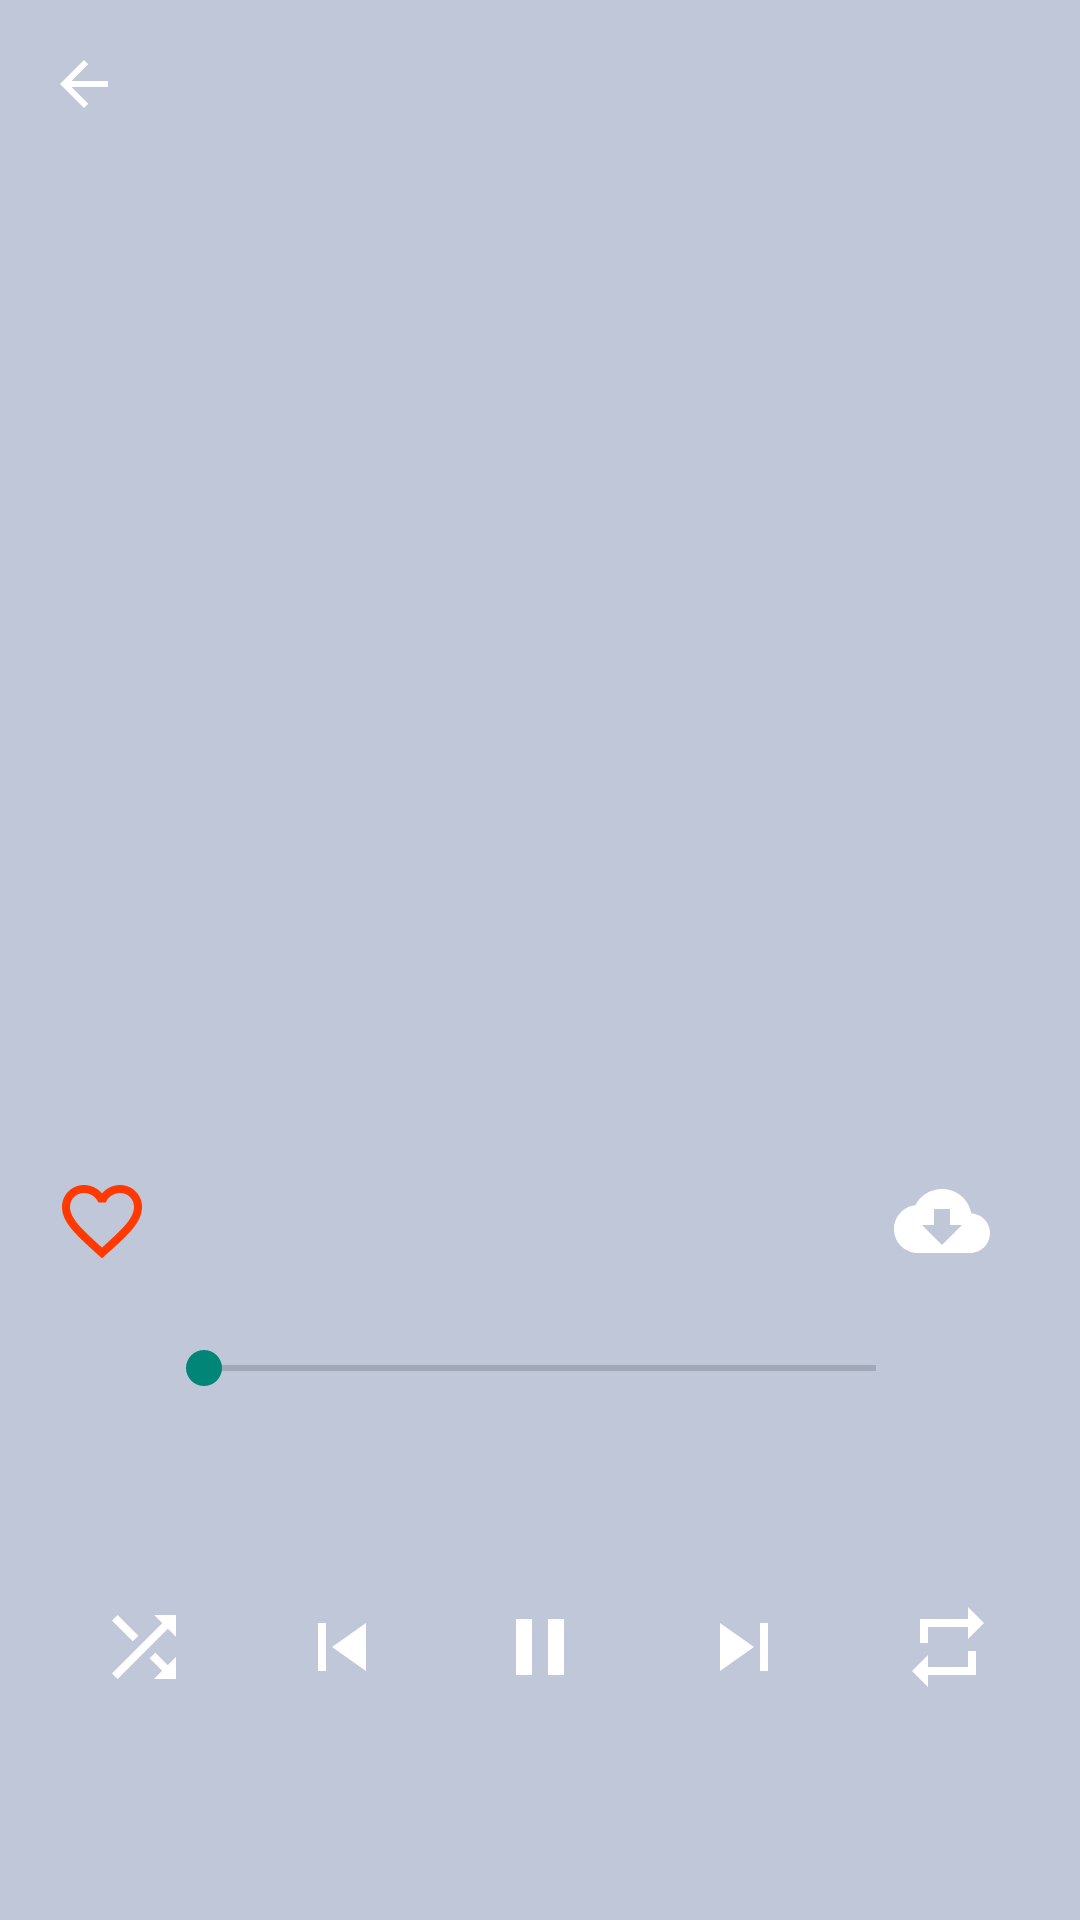

Named icons in this screenshot (1080 x 1920) and their centers, (x=x, y=y):
back: (x=84, y=84)
download: (x=942, y=1221)
loop off: (x=948, y=1647)
next: (x=744, y=1647)
pause: (x=540, y=1647)
previous: (x=342, y=1647)
shuffle off: (x=144, y=1647)
un favorite: (x=102, y=1221)
